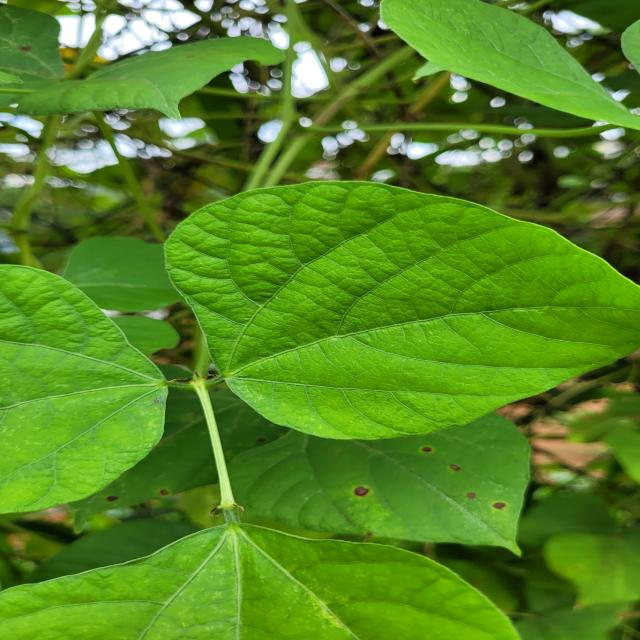Dolicos bean_cercospora leaf spot: (201, 388, 551, 543)
Dolicos bean_healthy: (167, 178, 640, 442), (0, 529, 523, 640), (0, 260, 181, 522), (350, 0, 639, 130)
